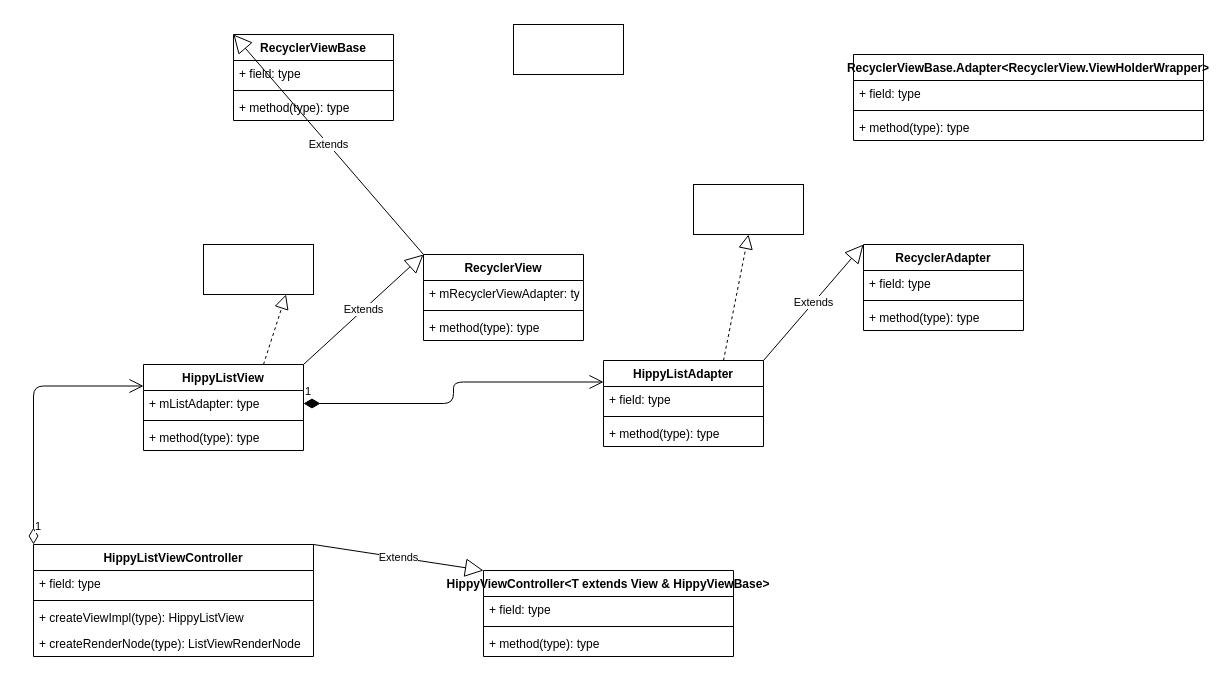
This 1227x677 diagram has some shape labels left out. Each missing label, with the centre of its shape:
"HippyViewBase" goes at (x=258, y=269).
"IRecycleItemTypeChange" goes at (x=748, y=209).
"RecyclerViewBase.OnScrollListener" goes at (x=568, y=49).
